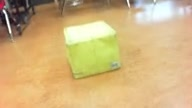cube: (63, 20, 121, 79)
